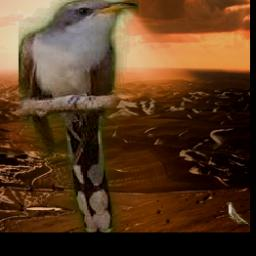Cuckoo: (20, 0, 140, 233), (227, 202, 248, 224)
